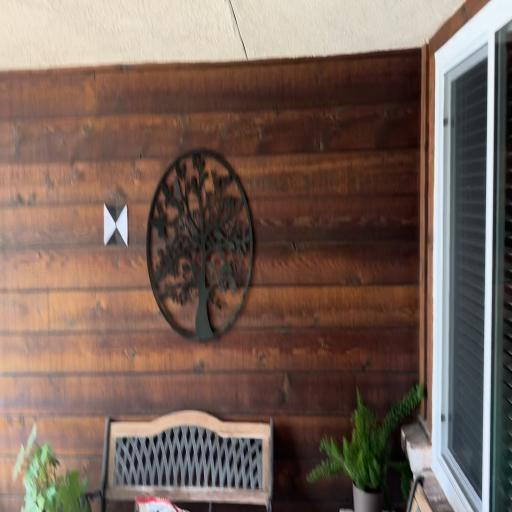target: (104, 205, 127, 247)
